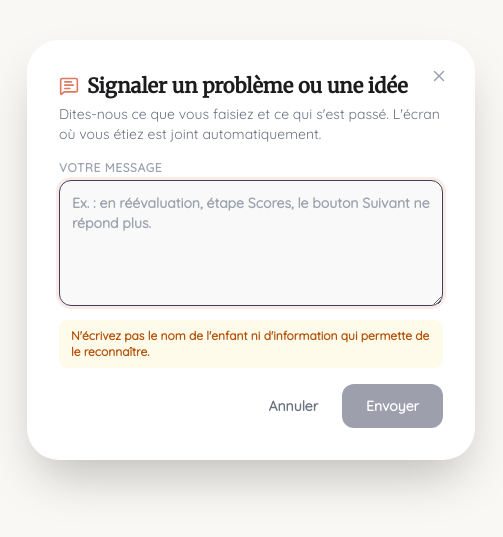
Test: FeedbackModal › dit que l'envoi est indisponible quand Sentry est coupé, sans perdre le message
Type "Écran blanc" into the text box labelled "Votre message" at (251, 243), box [59,180,443,306]
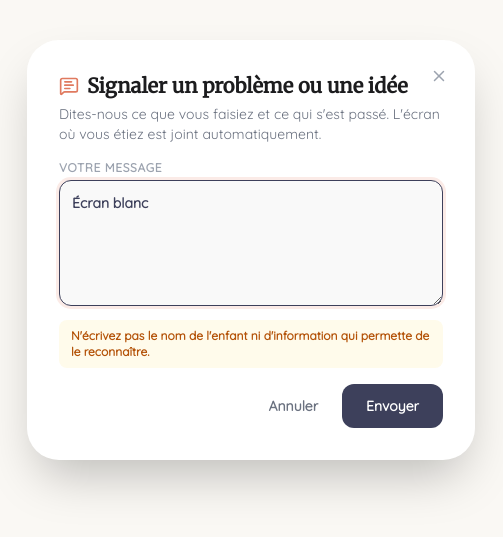
Click the button "Envoyer" at (392, 406), box [342,384,443,428]
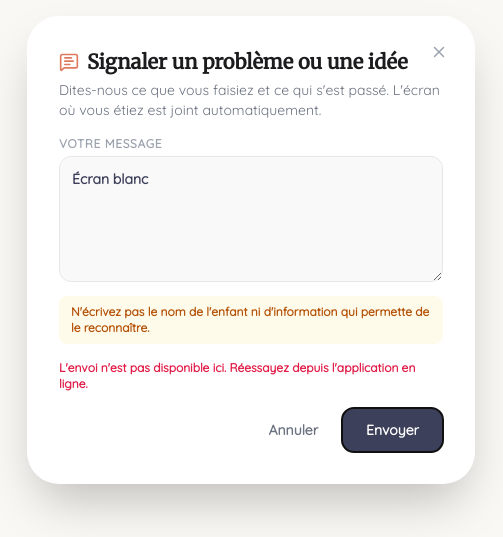
Now the text "L'envoi n'est pas disponible ici" is shown, box [59,360,415,391]
